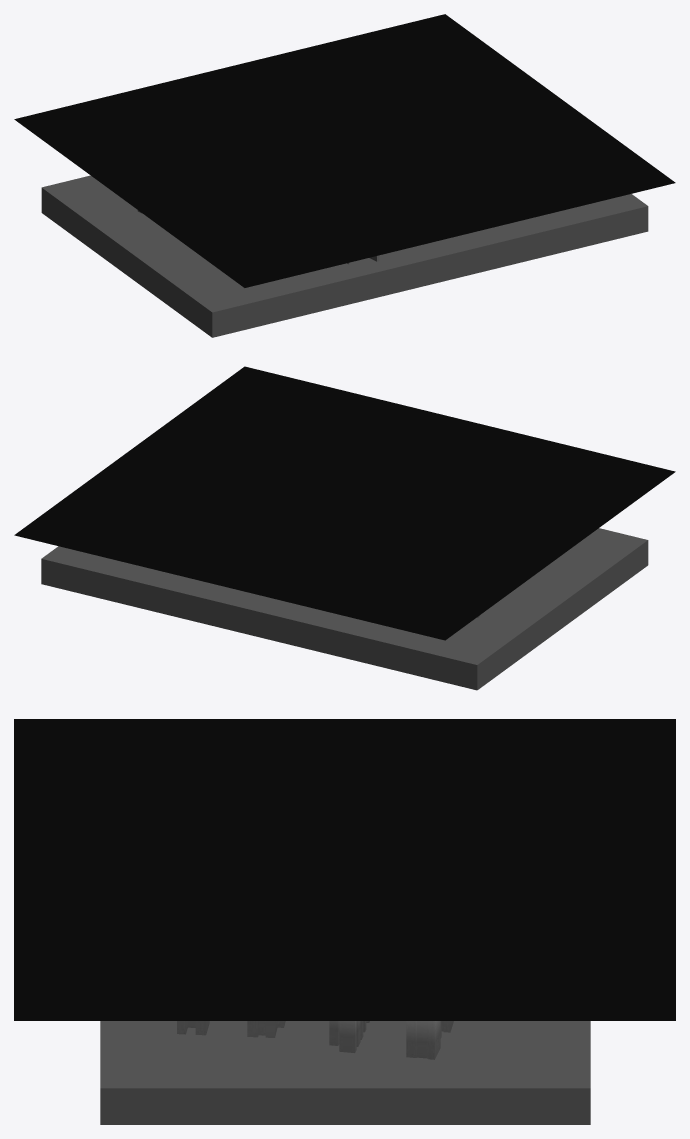
Rendered from environmental3.glb.
3 renders of one model, top to bottom at view 1: azimuth 30°, elevation 25°; view 2: azimuth 150°, elevation 25°; view 3: azimuth 270°, elevation 25°, orthographic. The views are drawn at different scales.
Visible parts, largest first — view 1: Plane_1, Cube; view 2: Plane_1, Cube; view 3: Plane_1, Cube, Building.
Part boxes in pixels (x1,y1,x2,y2): Plane_1: (14, 14, 675, 287); Cube: (41, 175, 648, 337); Plane_1: (14, 366, 675, 640); Cube: (41, 528, 648, 690); Plane_1: (14, 719, 675, 1020); Cube: (100, 1021, 590, 1124); Building: (177, 1021, 453, 1059).
Size of the model in its own units: 16.18 by 2.52 by 14.83.
Materials: 3 (2 with a texture image).
